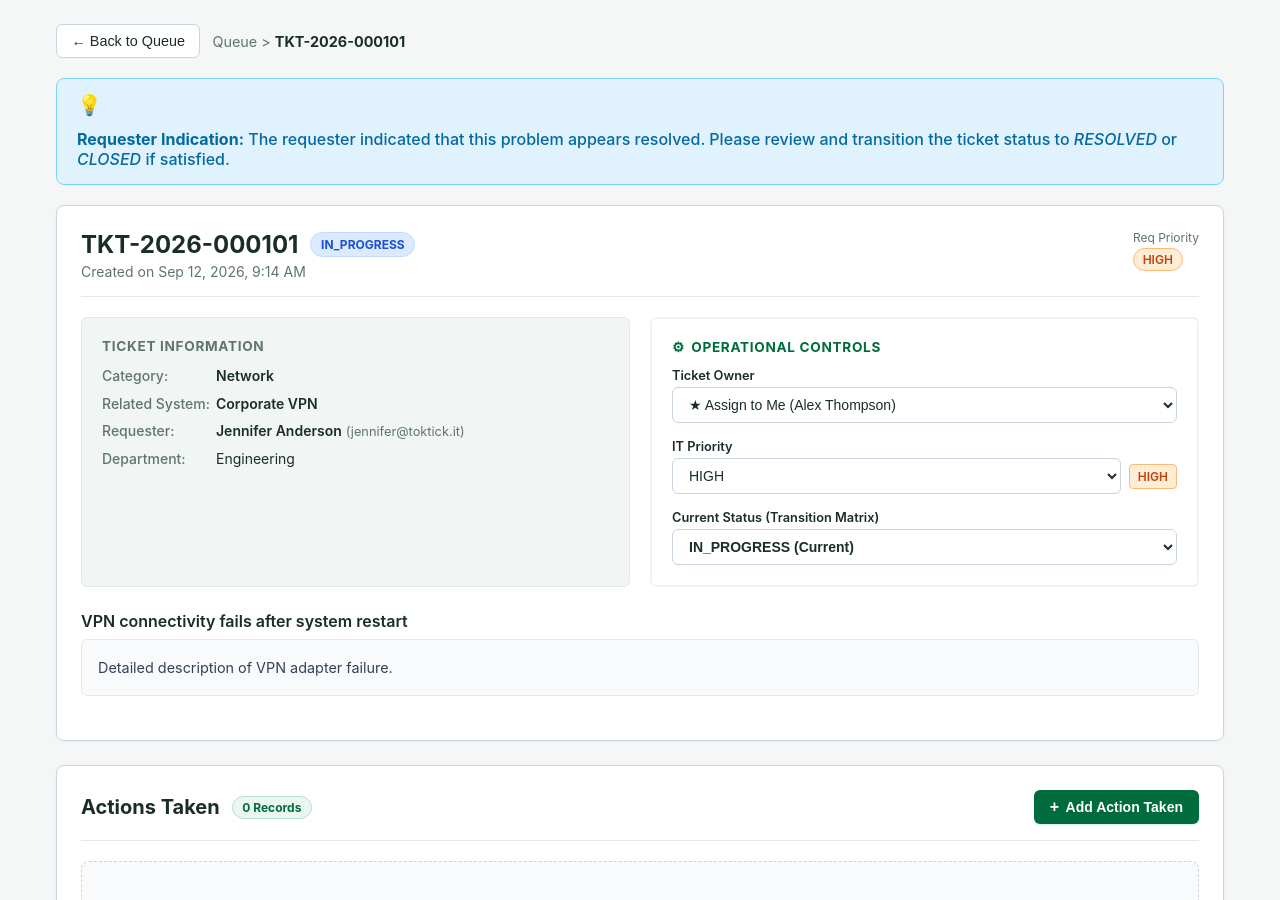
Test: Lab 4 Ticket Workflow & Resolution Gate Component Tests (FLOW-01 to FLOW-04, AC-06 to AC-09, AC-14) › Resolution Gate Enforcement & Concurrency Conflict in UI (FLOW-04, API-04, AC-14) › displays error alert when backend rejects transition due to Resolution Prerequisites failure
Step 1. Select "→ Transition to RESOLVED" in the dropdown with test id "ticket-status-select" → point(924, 547), box [672,529,1177,565]
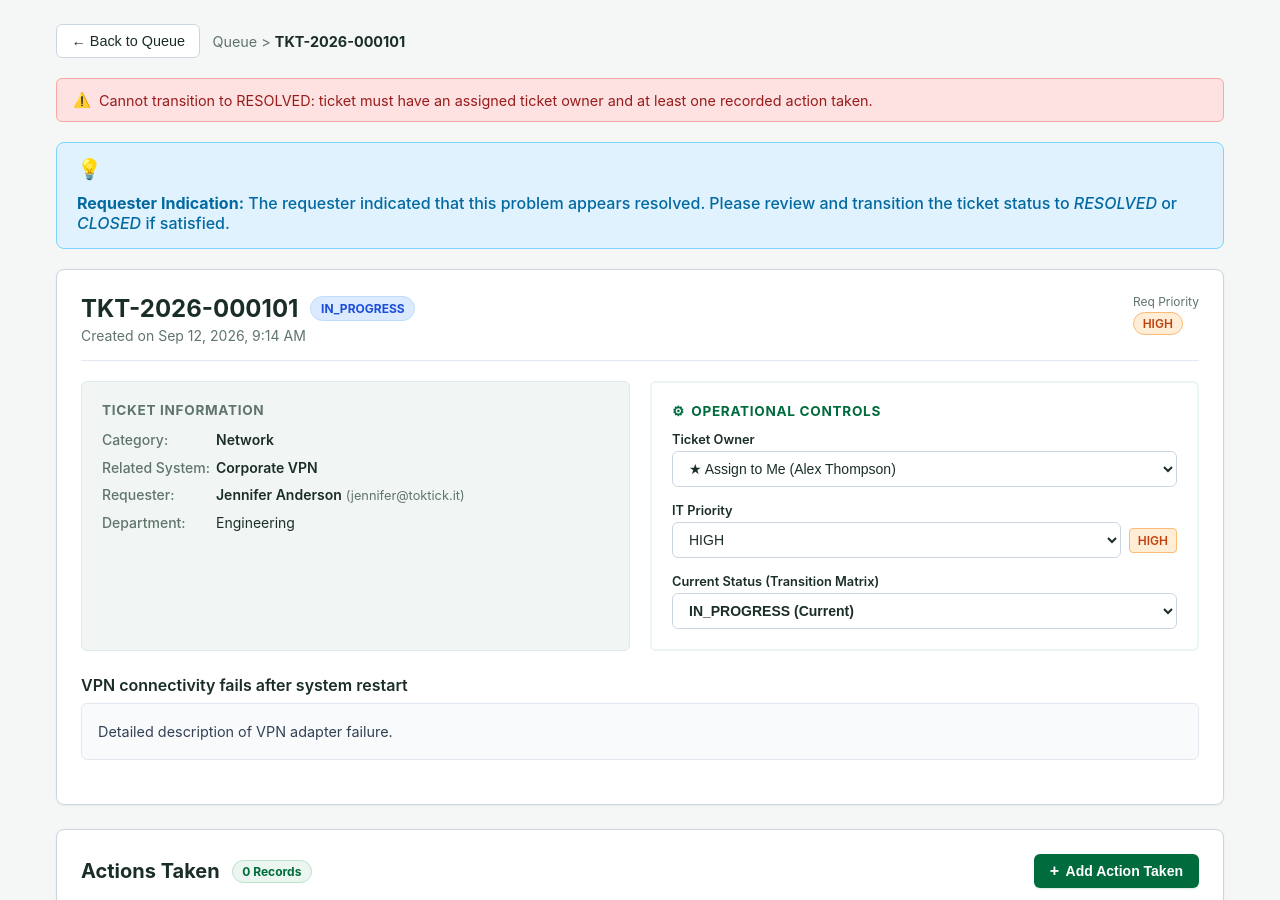
expect the message with test id "staff-detail-error-alert" is shown: met, box [56,78,1224,122]
expect the message with test id "staff-detail-error-alert" shows "at least one recorded action taken": met, box [99,92,873,108]
